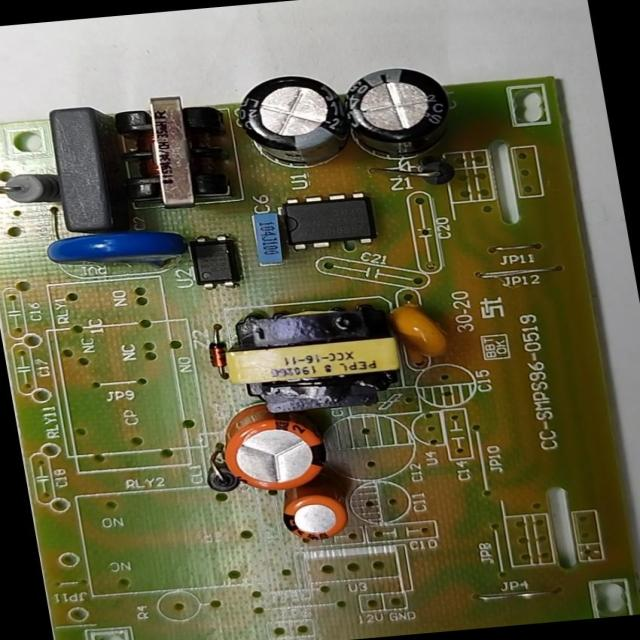Cap1: (210, 395, 343, 500)
Cap2: (274, 484, 355, 549)
Cap3: (228, 62, 359, 182)
Cap4: (331, 59, 475, 177)
MOSFET: (266, 182, 398, 268)
Mov: (32, 216, 208, 280)
Resistor: (0, 152, 69, 226)
Transformer: (195, 283, 426, 422), (96, 84, 259, 222)
